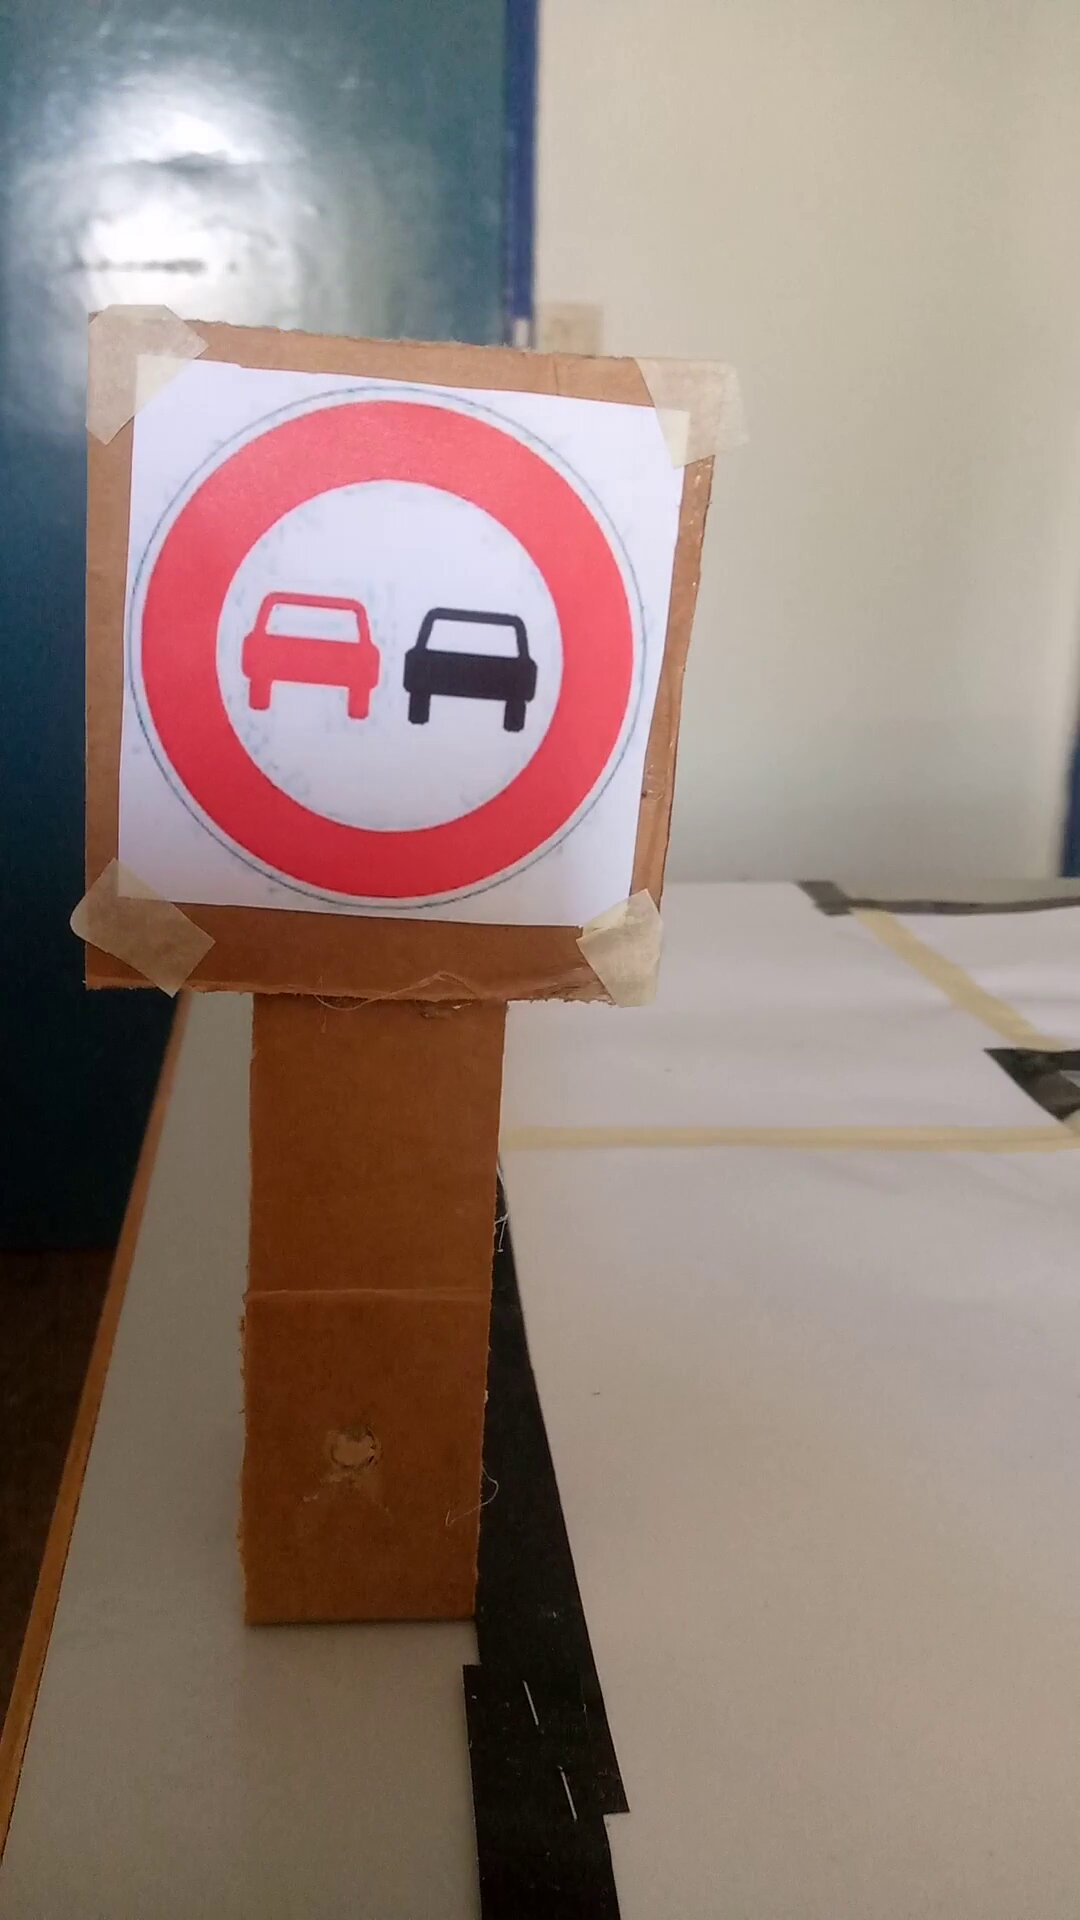panel100: (127, 345, 644, 951)
